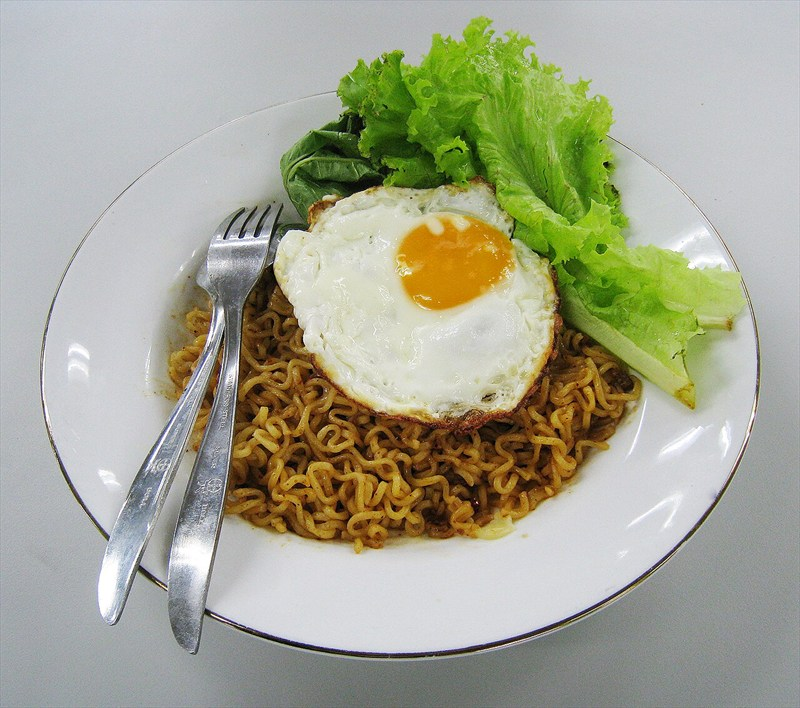Mie Goreng: (192, 70, 648, 550)
